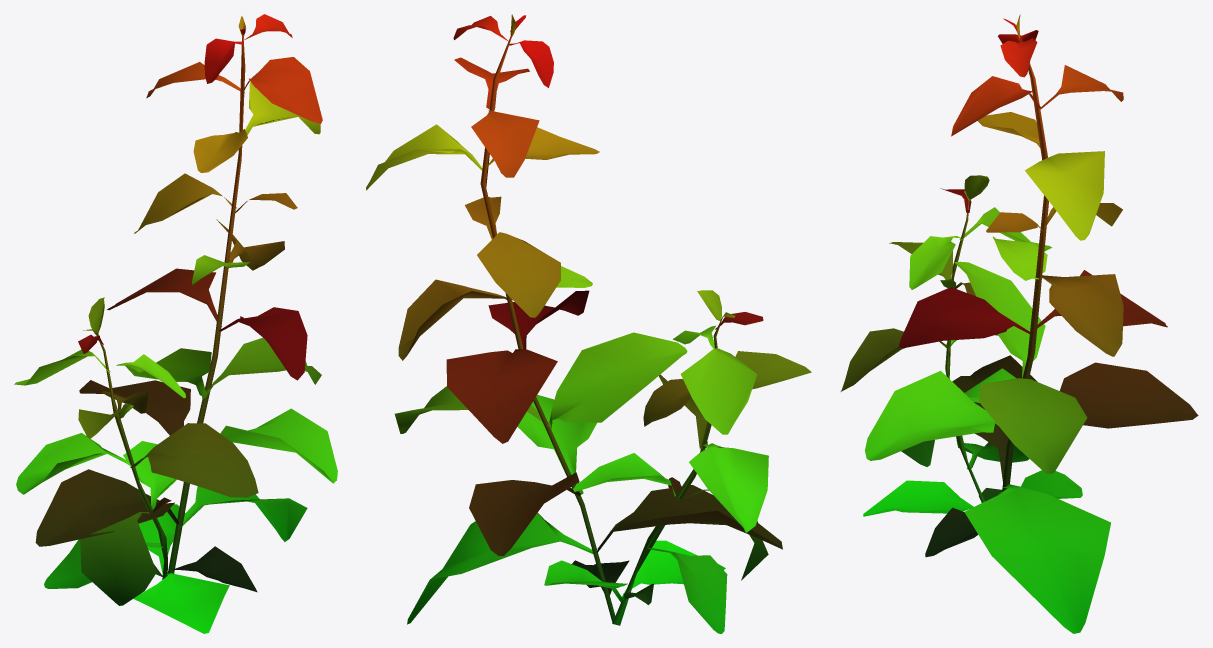
The model's file is SM_OW_Shrub_a_LOD2.fbx.
The picture shows the model from 3 angles, left to right: view 1: azimuth 30°, elevation 25°; view 2: azimuth 150°, elevation 25°; view 3: azimuth 270°, elevation 25°; orthographic projection. The views are drawn at different scales.
Parts seen in each view (by area): view 1: SM_OW_Shrub_a_LOD2; view 2: SM_OW_Shrub_a_LOD2; view 3: SM_OW_Shrub_a_LOD2.
Boxes of the visible parts, bbox=[...] form: SM_OW_Shrub_a_LOD2: bbox=[14, 14, 337, 633]; SM_OW_Shrub_a_LOD2: bbox=[366, 14, 811, 633]; SM_OW_Shrub_a_LOD2: bbox=[840, 14, 1198, 633].
Size of the model in its own units: 0.2316 by 0.3716 by 0.2062.
